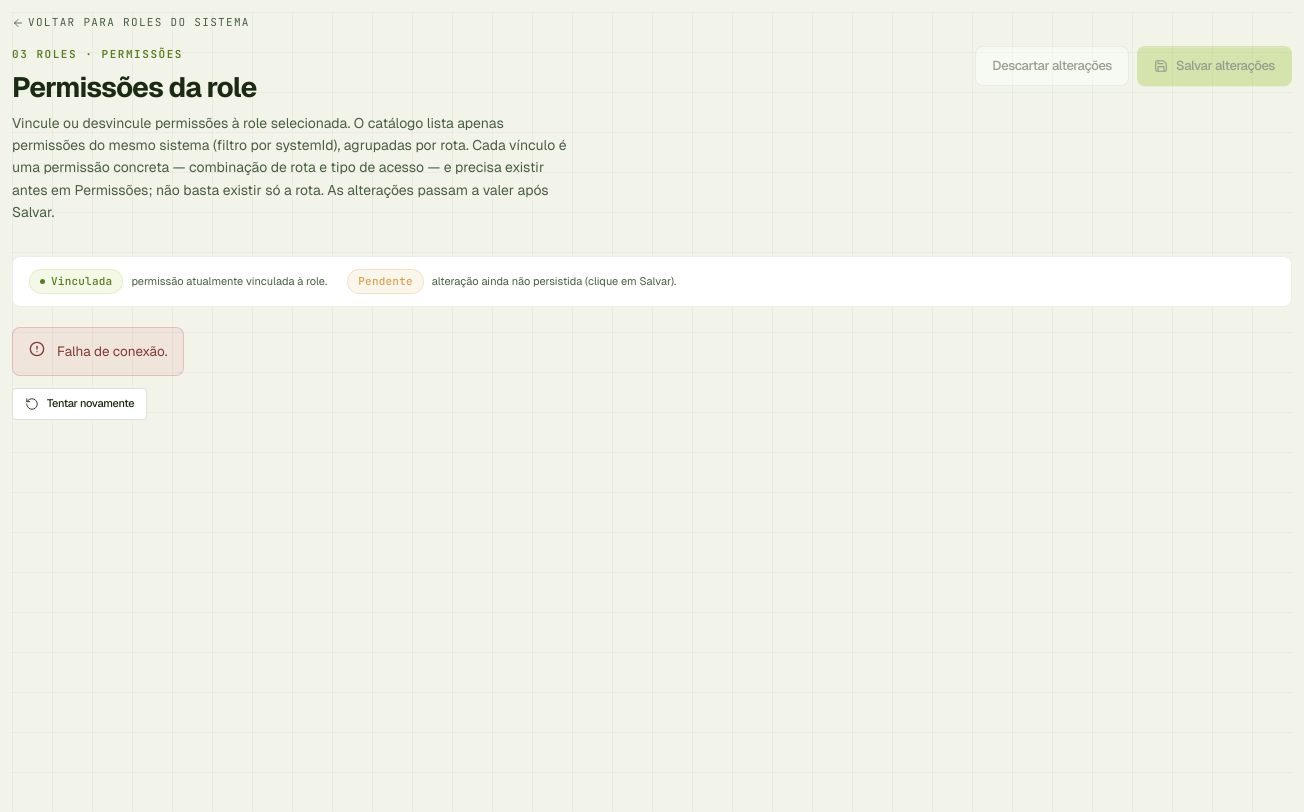
RolePermissionsShellPage — loading e erro inicial › retry refaz fetch e renderiza grupo após sucesso
This screenshot has width=1304, height=812.
Click the button with test id "role-permissions-retry": (80, 404) [12,388,147,420]
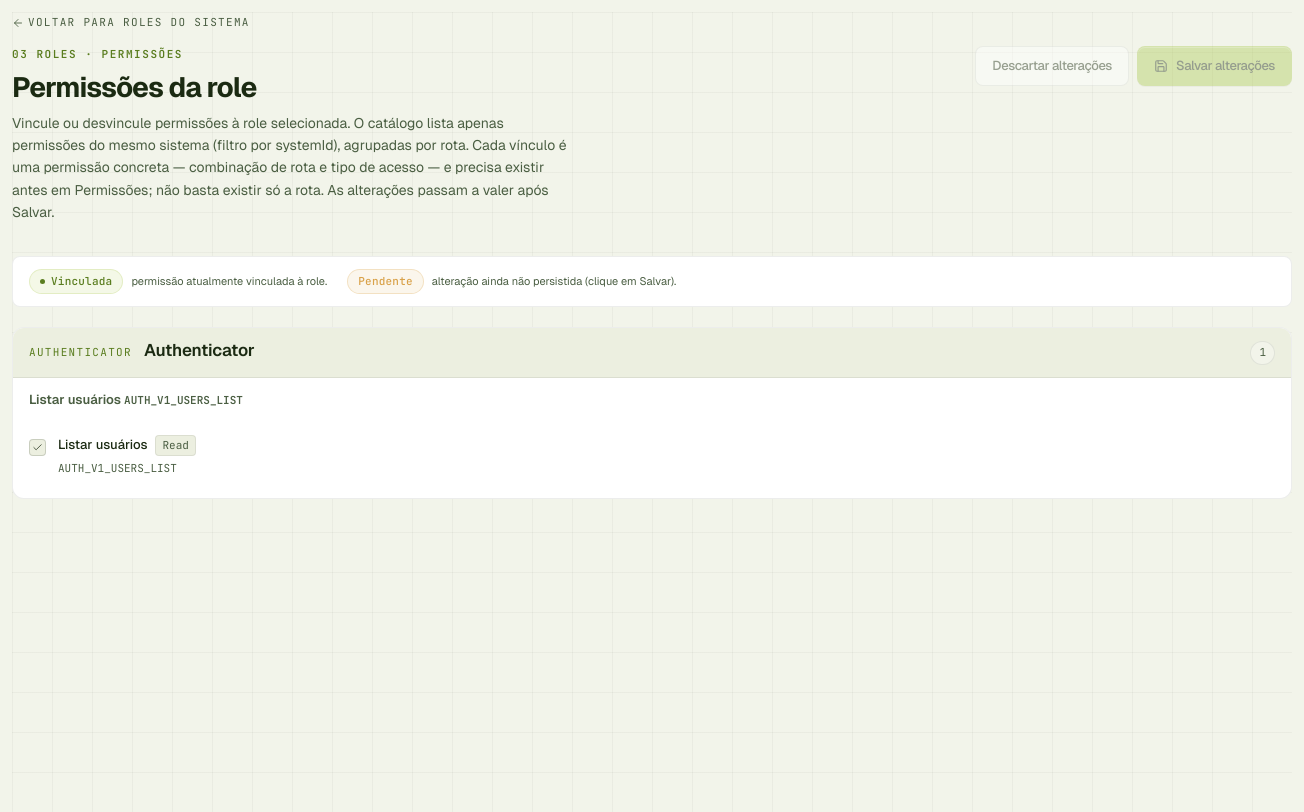
Result: the element with test id "role-permissions-group-authenticator" is shown at [12,327,1292,499]
